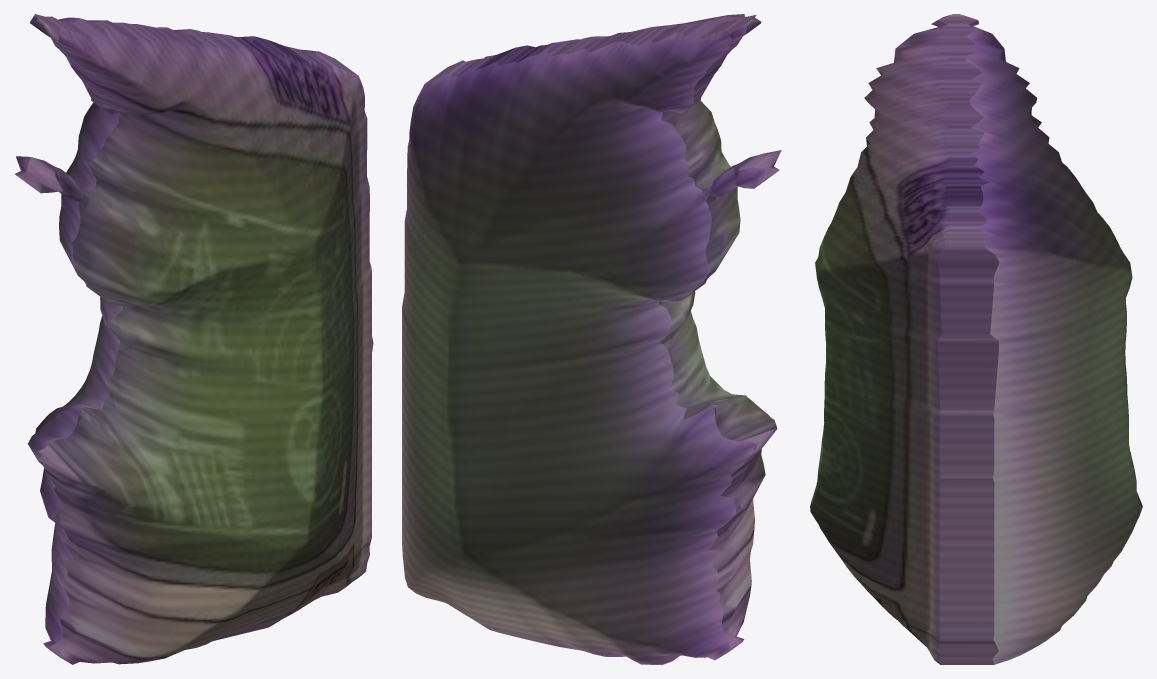
3 views of the same model, side by side, from view 1: azimuth 30°, elevation 25°; view 2: azimuth 150°, elevation 25°; view 3: azimuth 270°, elevation 25° (orthographic). The views are drawn at different scales.
Parts seen in each view (by area): view 1: holo; view 2: holo; view 3: holo.
Part boxes in pixels (x1,y1,x2,y2): holo: (15,14,373,664); holo: (402,14,781,664); holo: (810,14,1142,664).
Size of the model in its own units: 2.19 by 4 by 2.2.
1 material, 1 textured.
